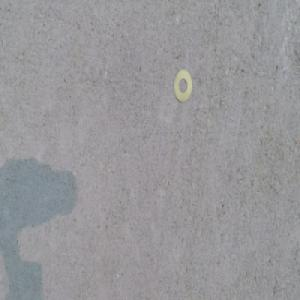Washer: (173, 71, 192, 102)
